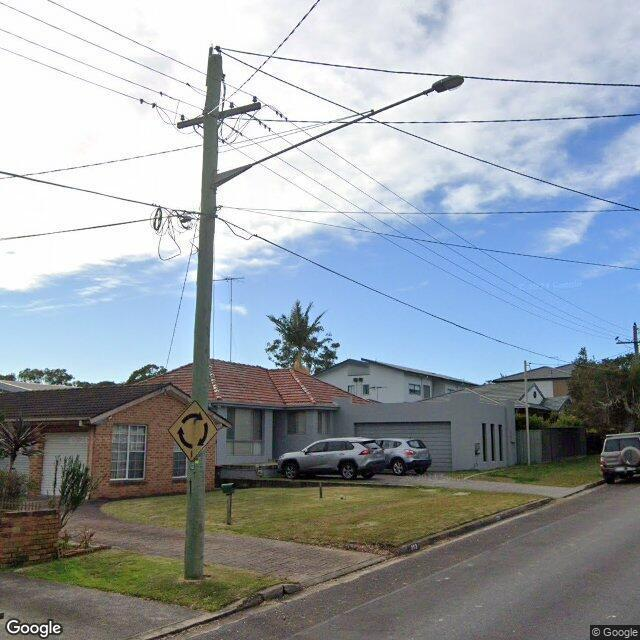crossarm: (177, 102, 261, 130), (615, 341, 640, 344)
streetlight: (213, 75, 465, 188)
timber-pole: (182, 52, 224, 581), (632, 322, 638, 355)
